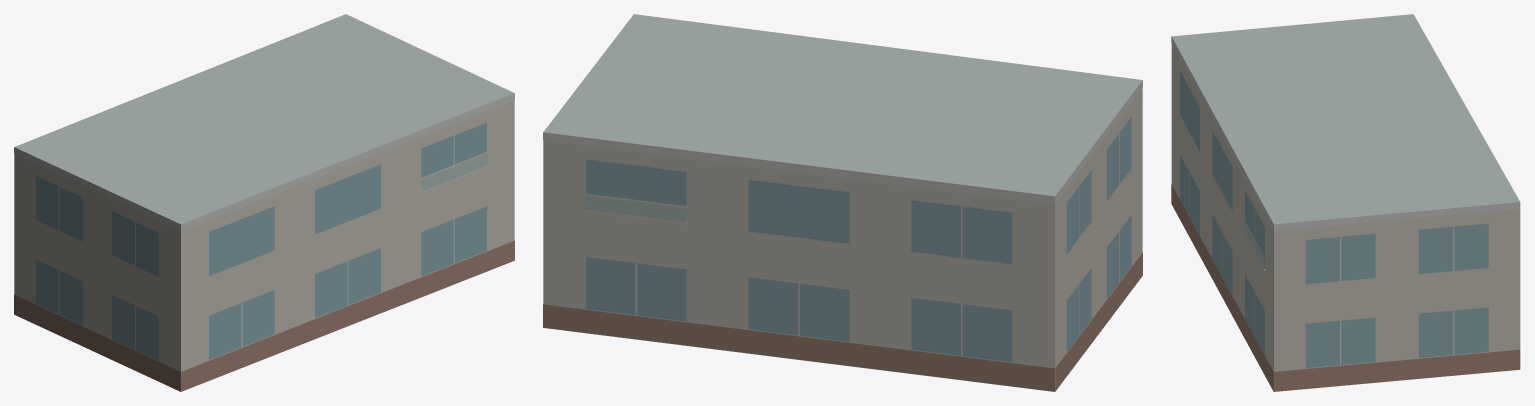
The model's file is survey-upis-32667069.glb.
3 views of the same model, side by side, from view 1: azimuth 30°, elevation 25°; view 2: azimuth 150°, elevation 25°; view 3: azimuth 270°, elevation 25° (orthographic). The views are drawn at different scales.
Visible parts, largest first — view 1: survey-upis-32667069.tmp; view 2: survey-upis-32667069.tmp; view 3: survey-upis-32667069.tmp.
Part boxes in pixels (box(x1,y1,x2,y2)): survey-upis-32667069.tmp: box(14, 14, 514, 391); survey-upis-32667069.tmp: box(543, 14, 1142, 391); survey-upis-32667069.tmp: box(1171, 14, 1520, 391).
Bounding box in the file's own units: 16.43 × 6.1 × 11.52.
